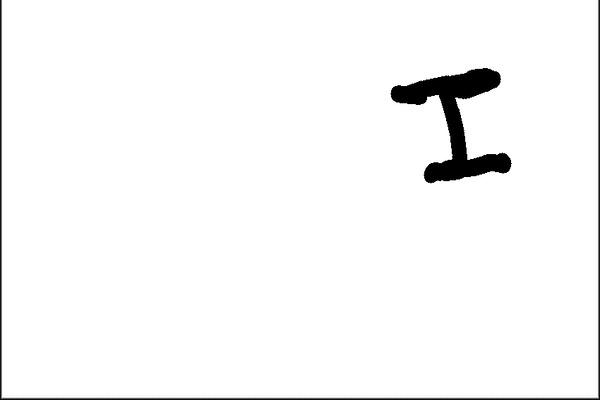i: (386, 63, 528, 190)
